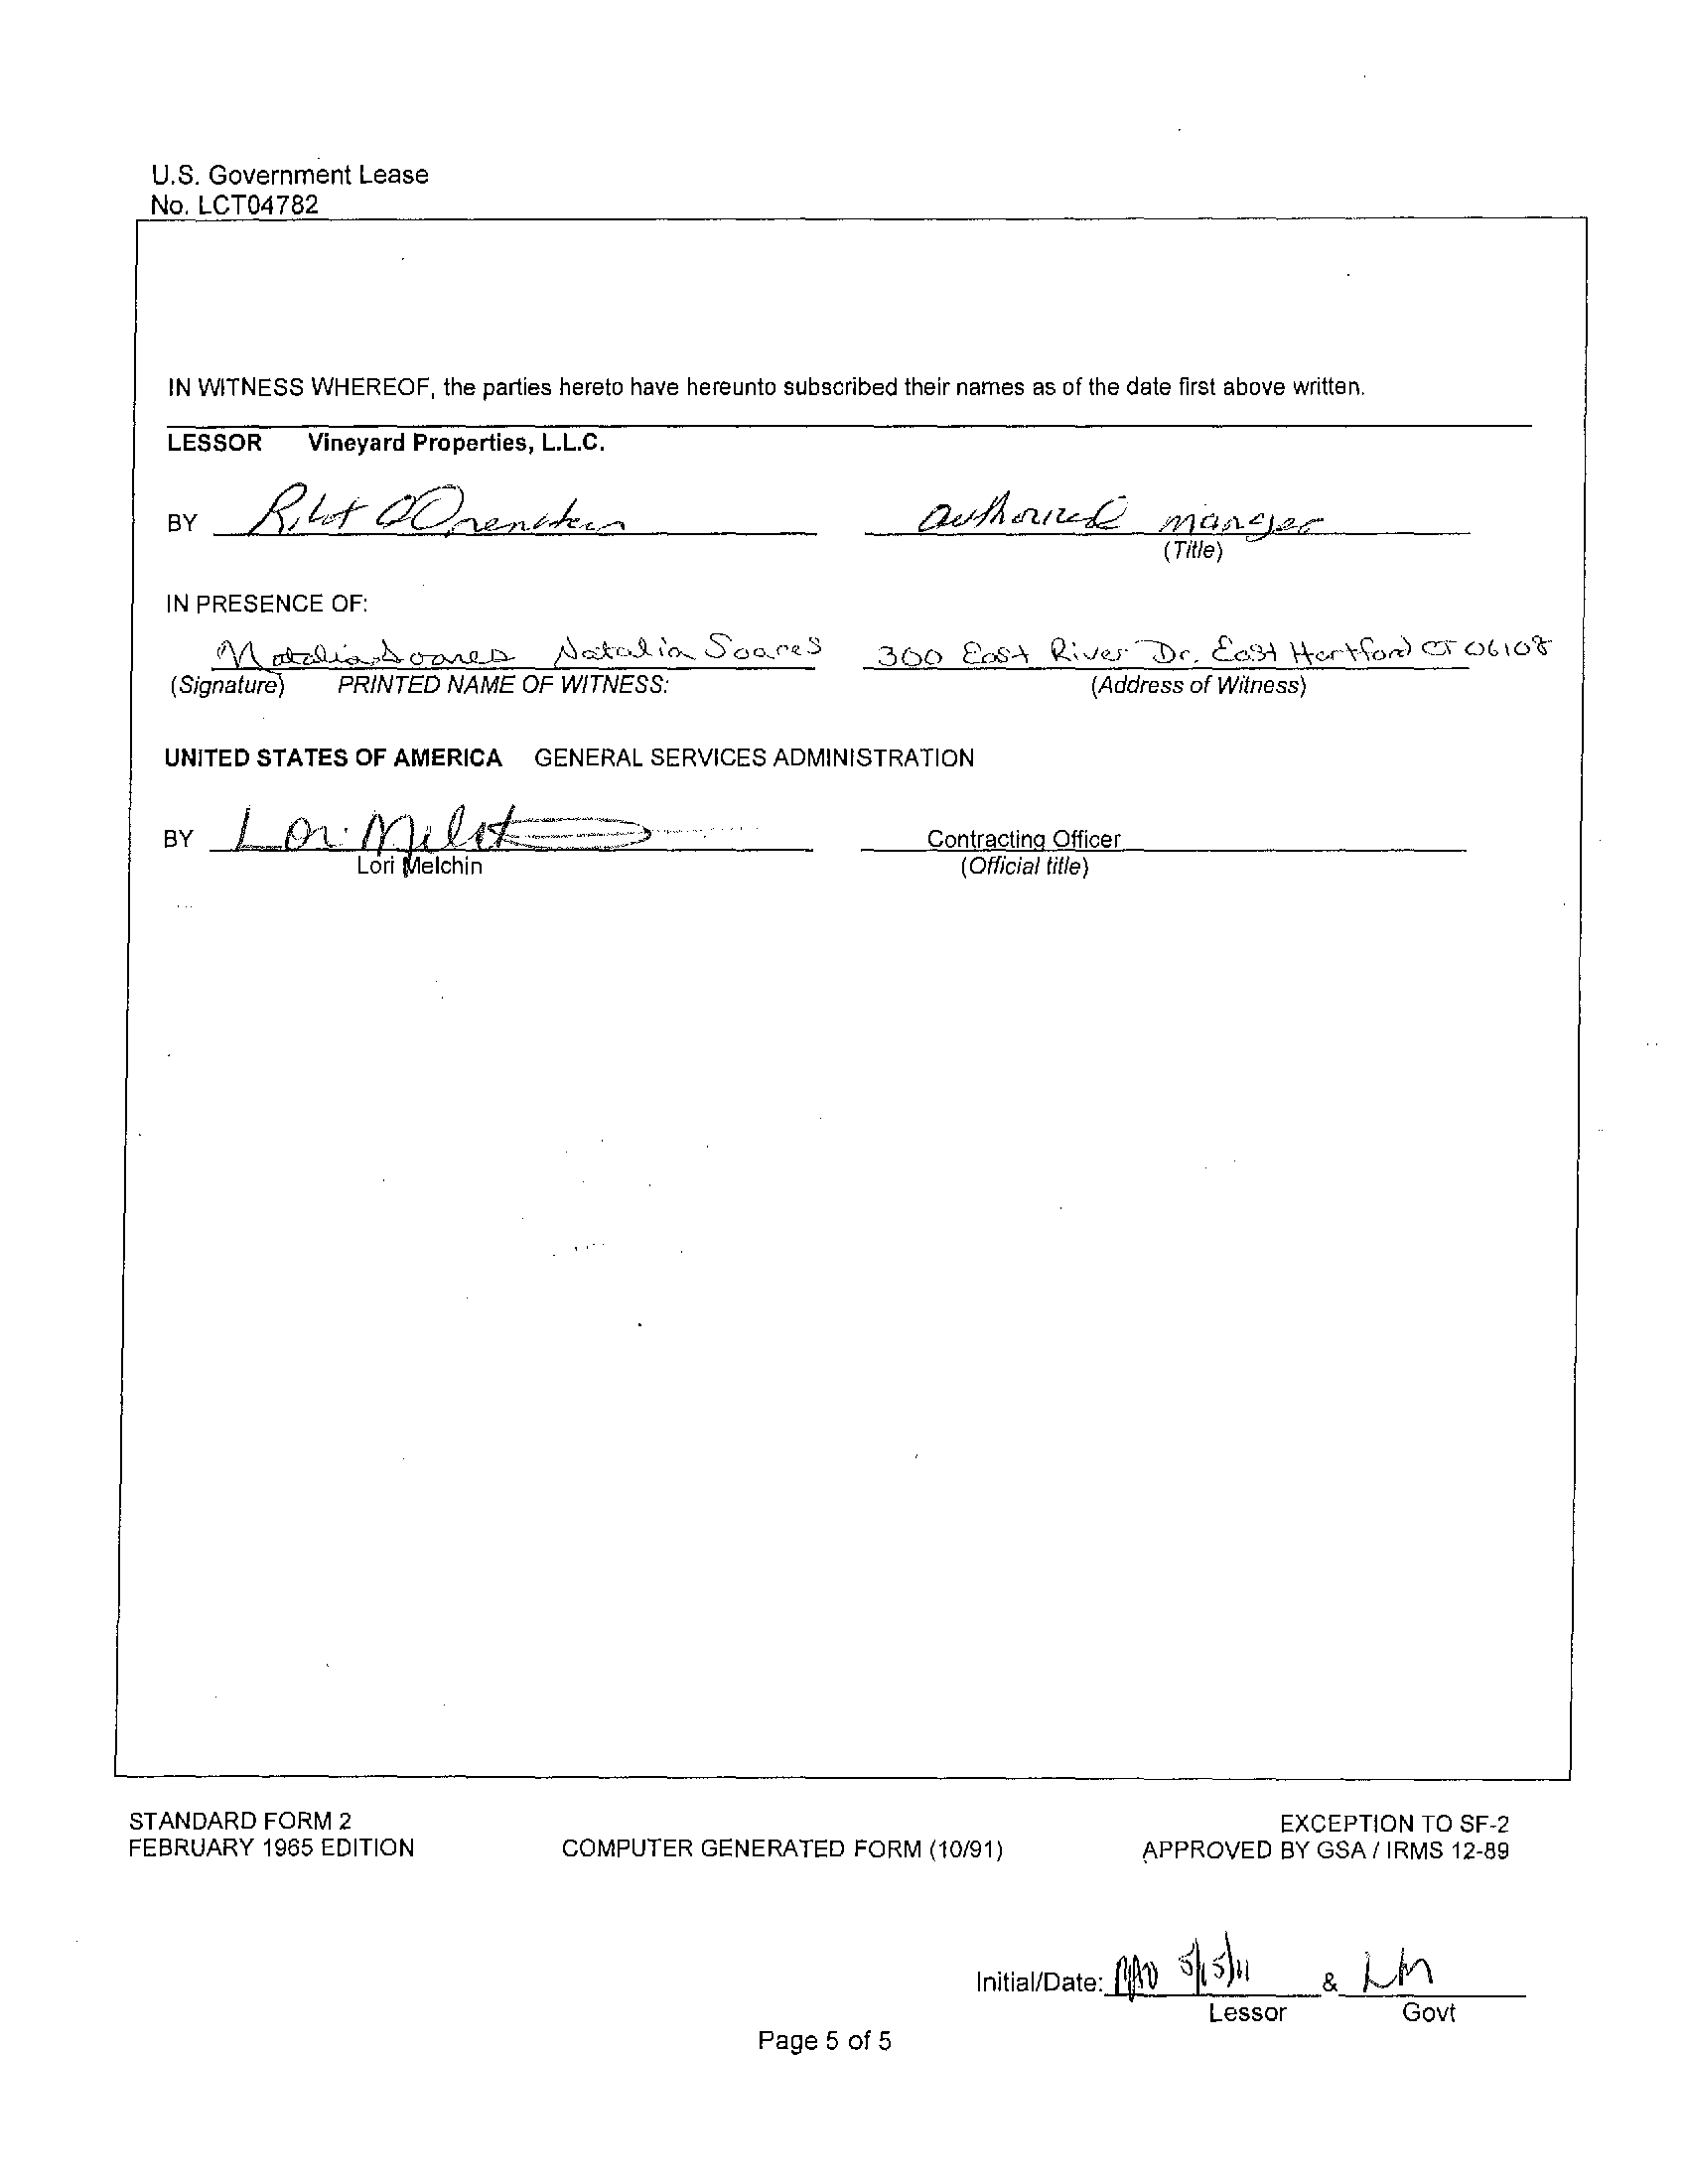handwritten: (862, 604, 1562, 674), (899, 464, 1348, 558), (200, 773, 670, 854), (184, 615, 855, 672), (234, 468, 635, 550), (1096, 1906, 1261, 1991), (1310, 1911, 1452, 2001)
